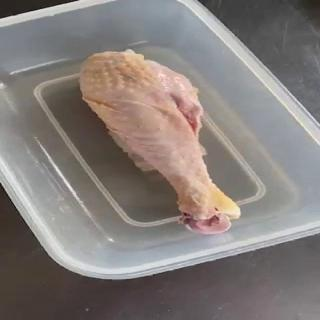Ayam: (79, 49, 242, 236)
